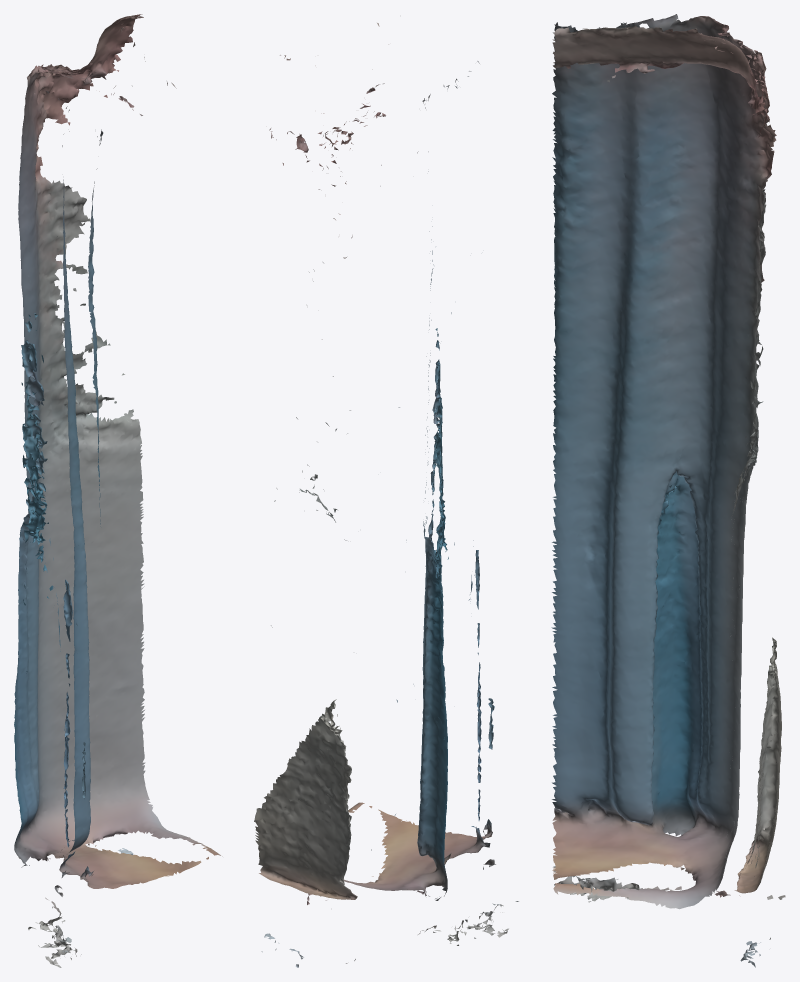
File: apartment-full-6-4e2e09edbc42.glb
3 views of the same model, side by side, from view 1: azimuth 30°, elevation 25°; view 2: azimuth 150°, elevation 25°; view 3: azimuth 270°, elevation 25° (orthographic). The views are drawn at different scales.
Bounding box in the file's own units: 0.401 × 2.02 × 0.463.
